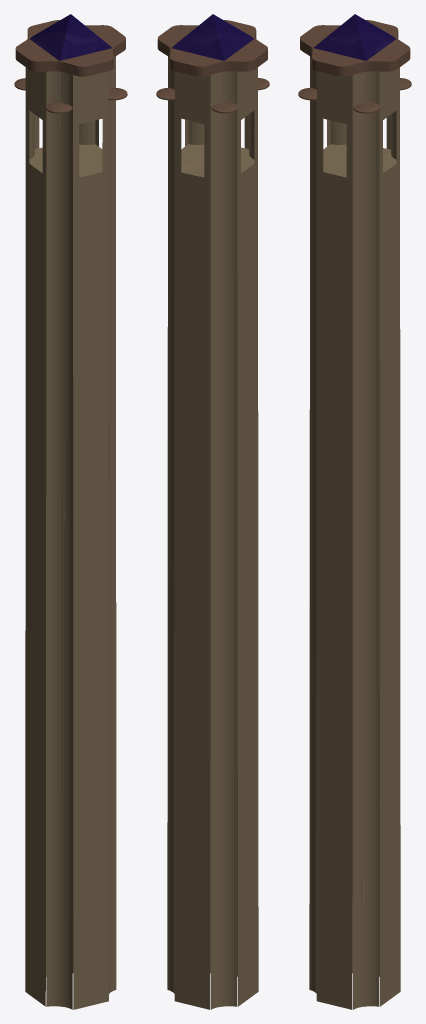
Rendered from ConeHoleBuilding.fbx.
The picture shows the model from 3 angles, left to right: view 1: azimuth 30°, elevation 25°; view 2: azimuth 150°, elevation 25°; view 3: azimuth 330°, elevation 25°; orthographic projection.
Parts seen in each view (by area): view 1: pSphere12; view 2: pSphere12; view 3: pSphere12.
Boxes of the visible parts, <box> form: pSphere12: <box>14,14,127,1009</box>; pSphere12: <box>156,14,269,1009</box>; pSphere12: <box>298,14,411,1009</box>.
Size of the model in its own units: 12.41 by 121 by 12.41.
